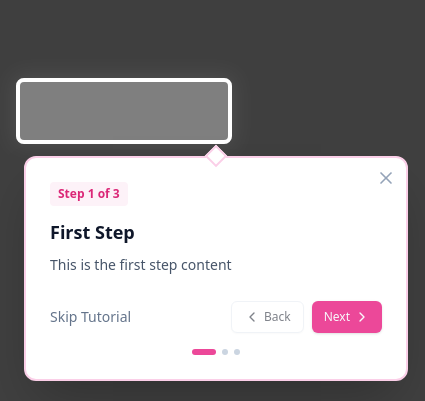
Test: TutorialV2 Component › Navigation › should navigate to previous step when Back button clicked
Go to step 2
Click the button "Next" at [347, 317], box [312,301,382,333]
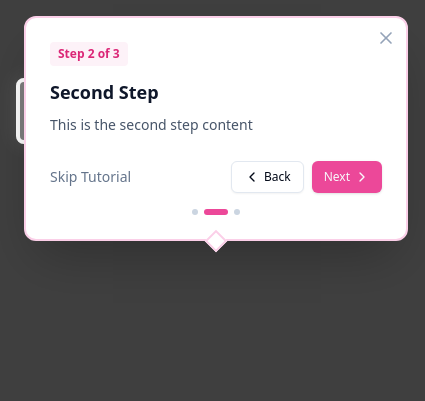
Expected: the heading "Second Step" is shown, [50,80,159,104]
Go back to step 1
Click the button "Back" at [267, 177], box [231,161,304,193]
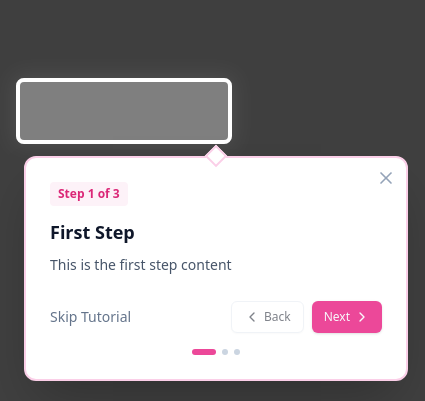
Expected: the heading "First Step" is shown, [50,220,135,244]
Expected: the text "Step 1 of 3" is shown, [50,182,128,206]
